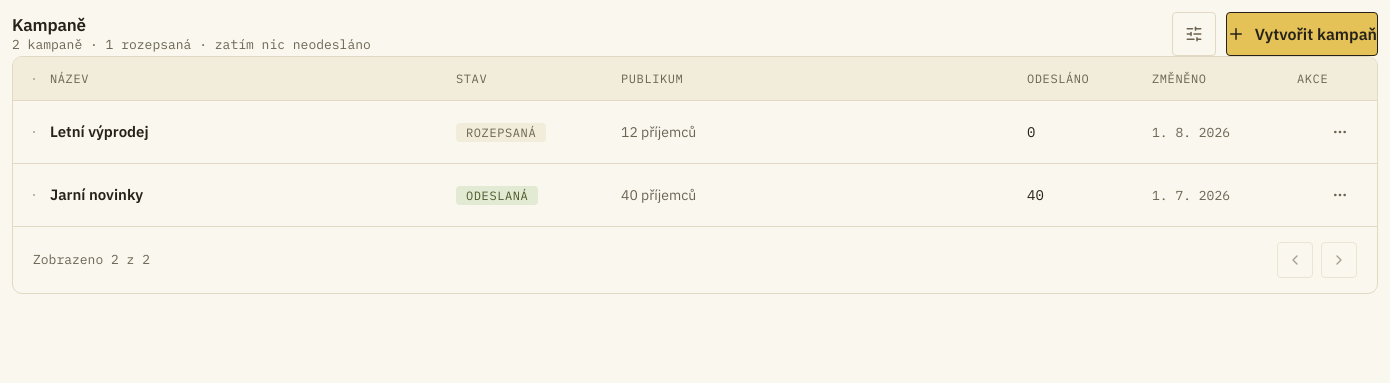
Test: hromadné mazání ze seznamu › výběr vede k akci, ne jen k počtu
Click the 1st checkbox named "Označit řádek": (34, 132) [33,131,35,133]
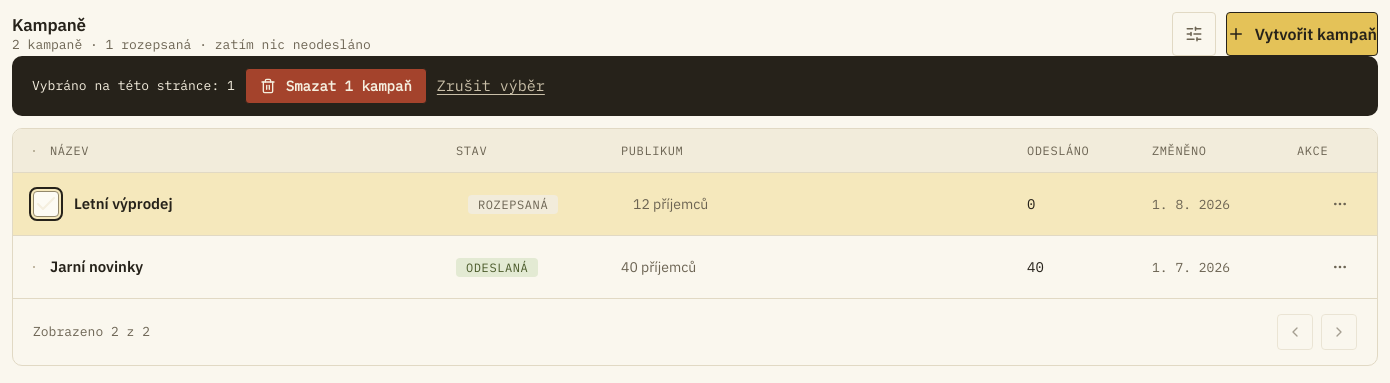
Check: the element with test id "selection-bar" is shown, box [12,56,1378,116]
Check: the button with test id "campaigns-bulk-delete" reads "Smazat 1 kampaň", box [245,68,427,104]
